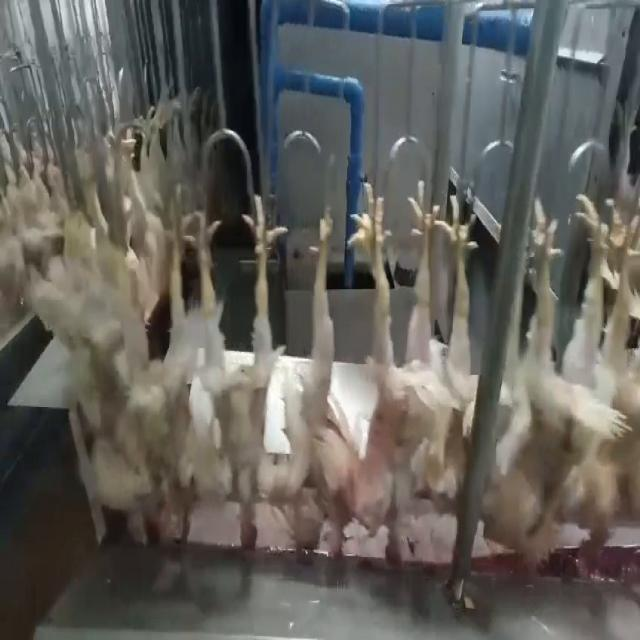chicken: (352, 180, 451, 578), (248, 188, 342, 583), (484, 194, 574, 572), (152, 210, 249, 532), (556, 191, 639, 565), (70, 225, 154, 530), (419, 178, 492, 513)
